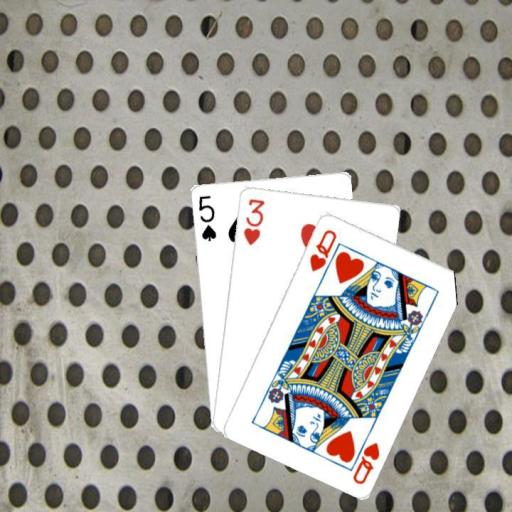3H: (240, 196, 266, 246)
5S: (195, 192, 217, 243)
QH: (346, 429, 381, 486), (306, 226, 338, 273)
